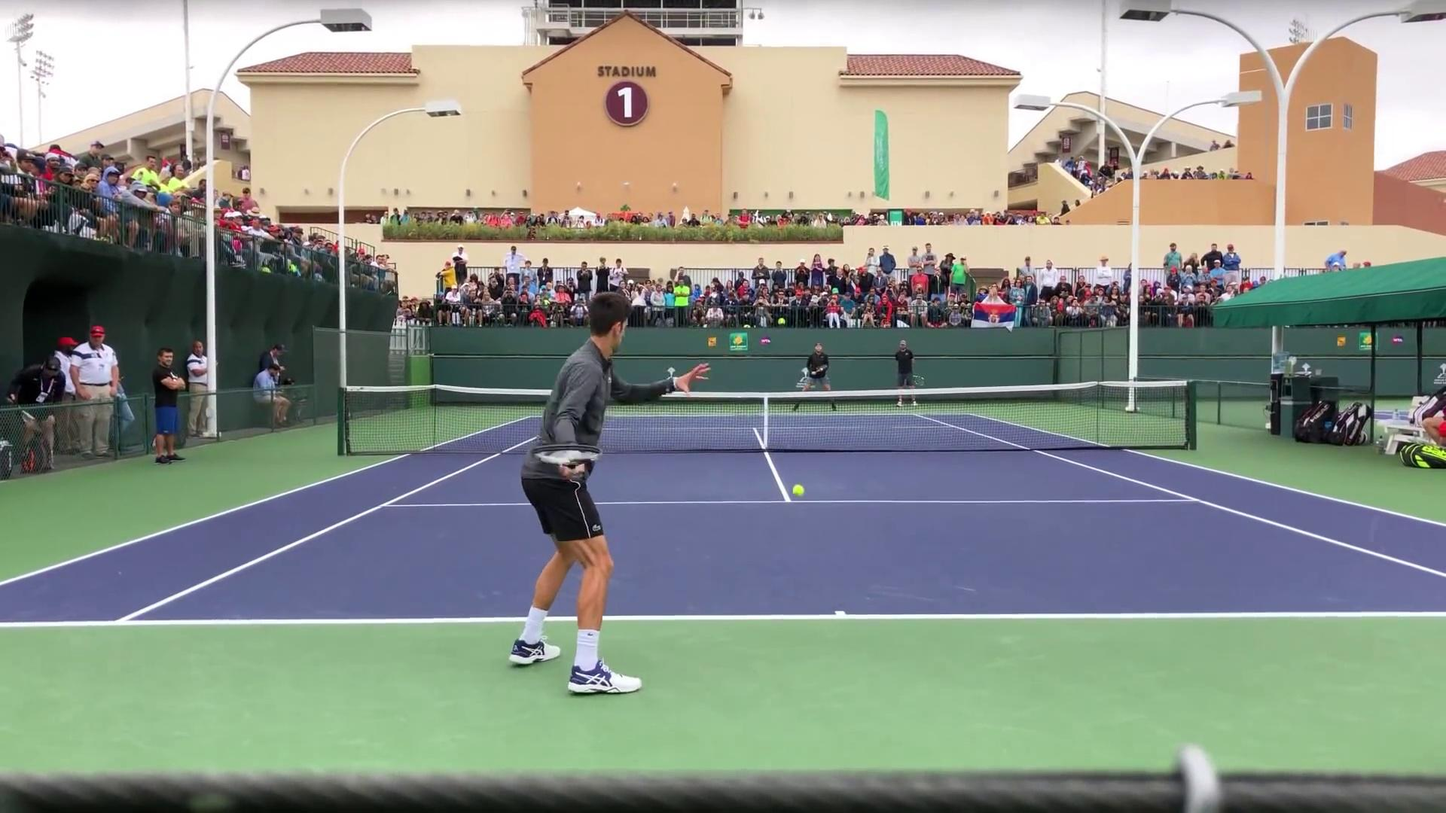ball: (792, 480, 808, 503)
